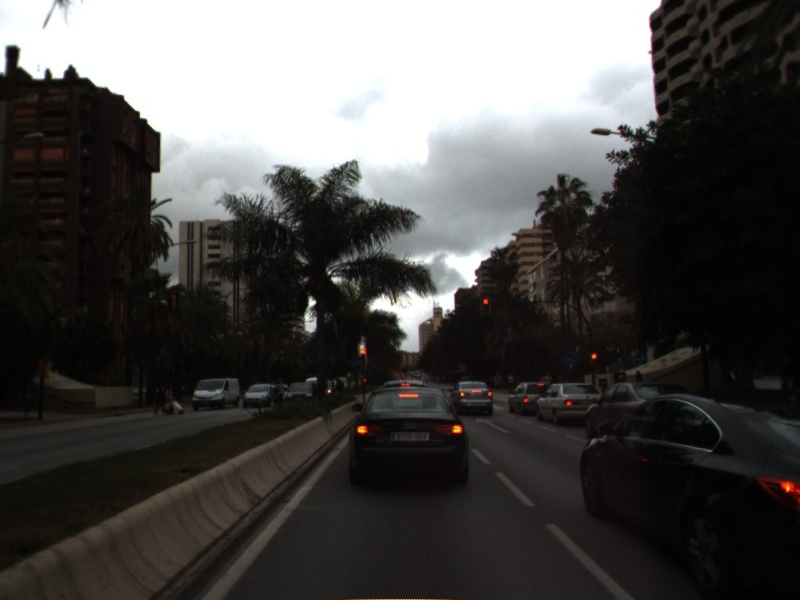STRAIGHT: (473, 414, 513, 435)
